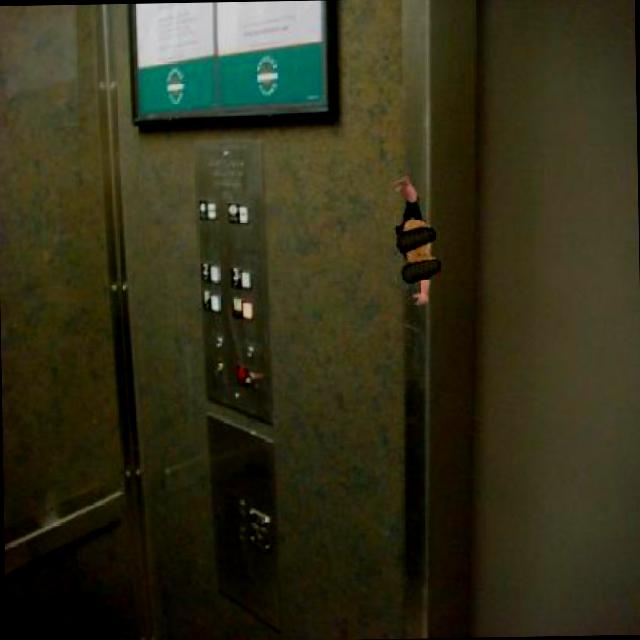Person: (388, 169, 443, 311)
